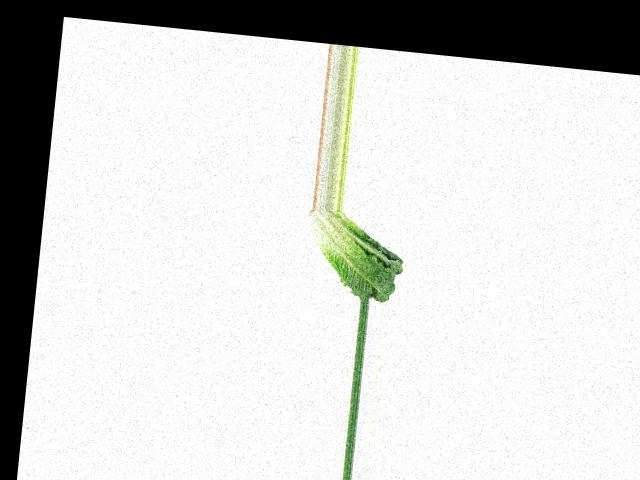lettuce: (299, 208, 409, 303)
